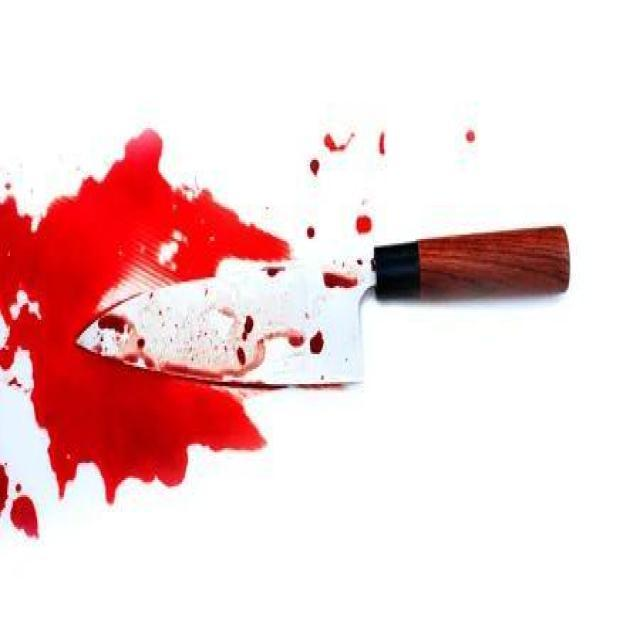flood: (1, 162, 288, 465)
